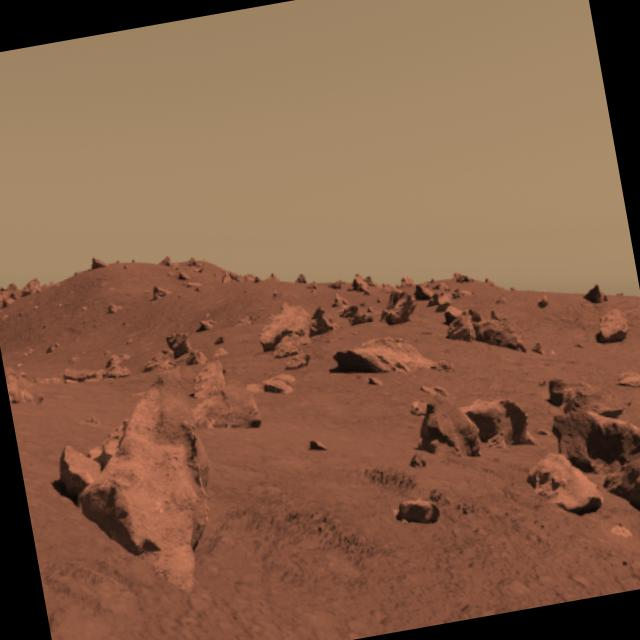rock: (35, 377, 235, 605), (410, 370, 534, 470), (519, 436, 610, 526), (589, 387, 640, 536), (333, 324, 438, 390), (248, 296, 324, 362), (586, 298, 638, 354)
